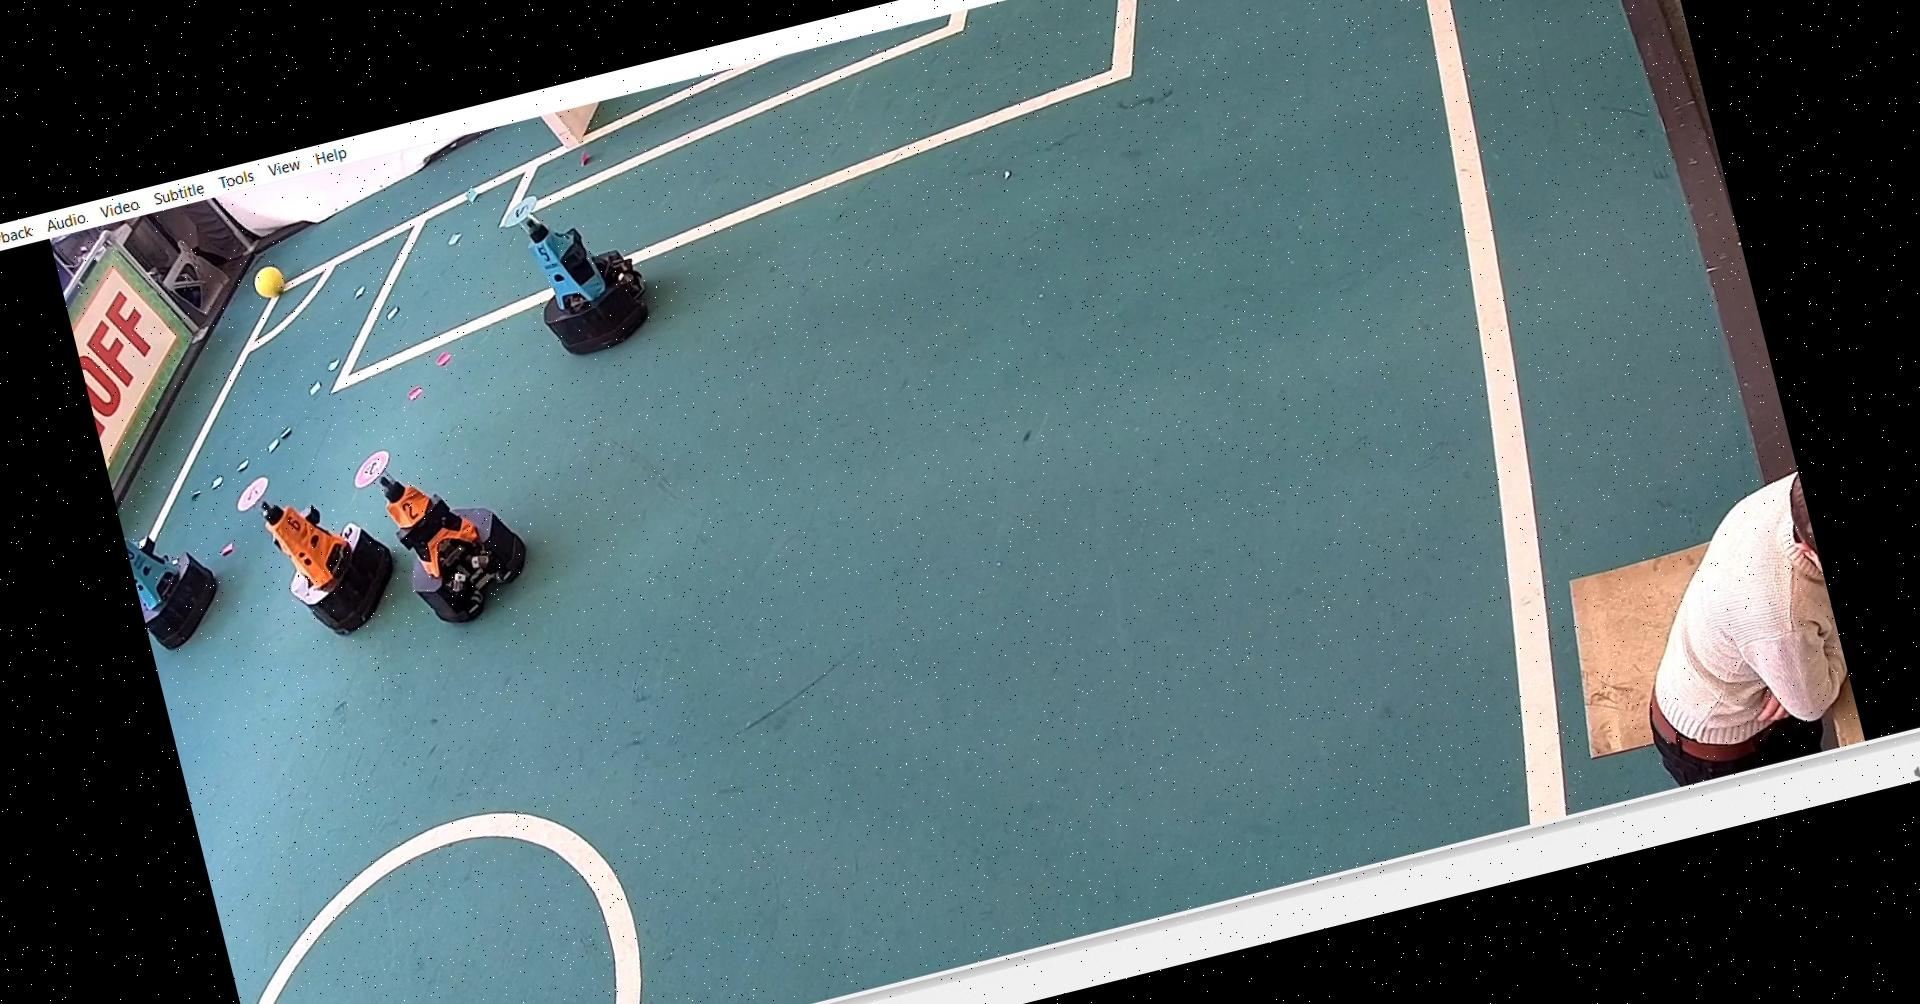Ball: (257, 259, 298, 298)
Team_Blue: (493, 161, 670, 369), (117, 499, 243, 652)
Team_Red: (345, 413, 542, 636), (230, 449, 405, 654)
